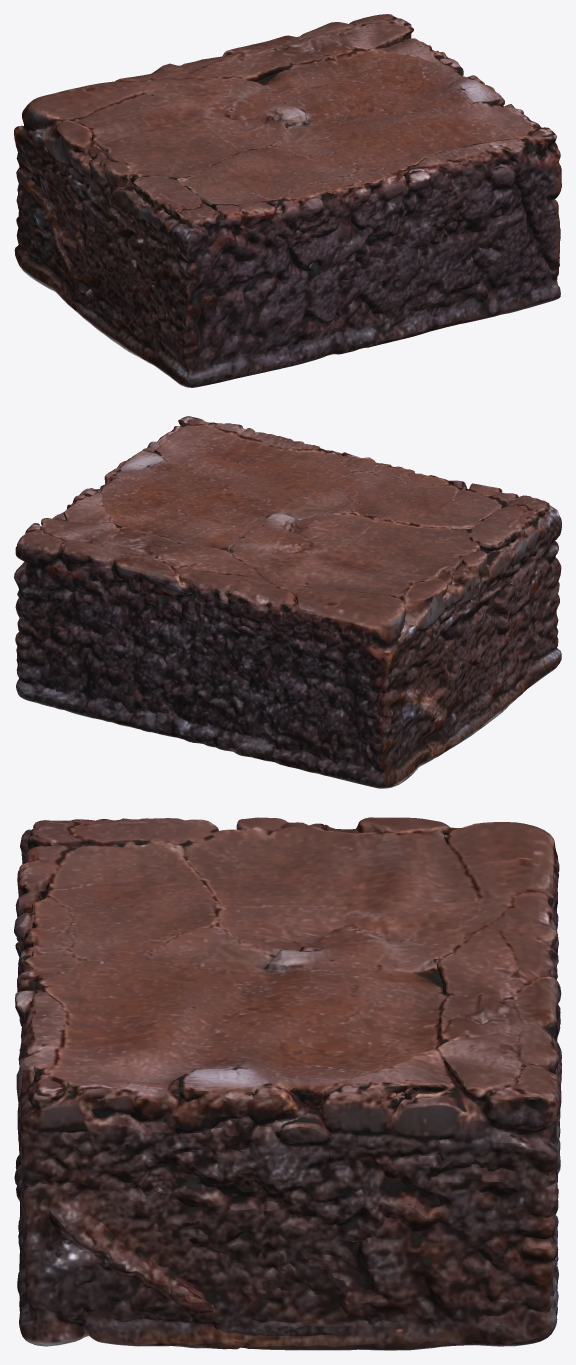
3 views of the same model, one above another, from view 1: azimuth 30°, elevation 25°; view 2: azimuth 150°, elevation 25°; view 3: azimuth 270°, elevation 25° (orthographic). The views are drawn at different scales.
Visible parts, largest first — view 1: brownie-physical-calibration-80x35x65mm; view 2: brownie-physical-calibration-80x35x65mm; view 3: brownie-physical-calibration-80x35x65mm.
Part boxes in pixels (x1,y1,x2,y2): brownie-physical-calibration-80x35x65mm: [14, 14, 561, 387]; brownie-physical-calibration-80x35x65mm: [14, 416, 561, 788]; brownie-physical-calibration-80x35x65mm: [14, 817, 561, 1350].
Size of the model in its own units: 0.08 by 0.035 by 0.065.
Materials: 1 (1 with a texture image).
